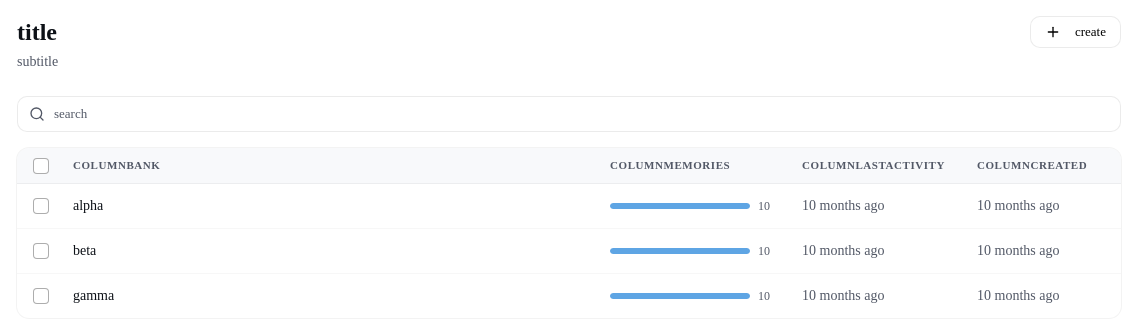
Test case: BanksOverview bulk delete › keeps the search box when a query matches nothing, rather than greeting
Expected: the checkbox named "selectAll" is shown, [33,158,49,174]
Step 1. Type "nope" into the field with placeholder "search" → (569, 114), box [17,96,1121,132]
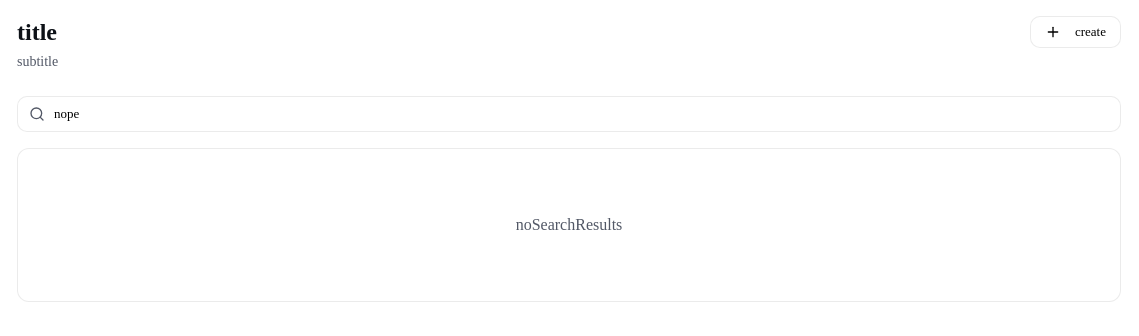
Now the text "noSearchResults" is shown, box [17,148,1121,302]
